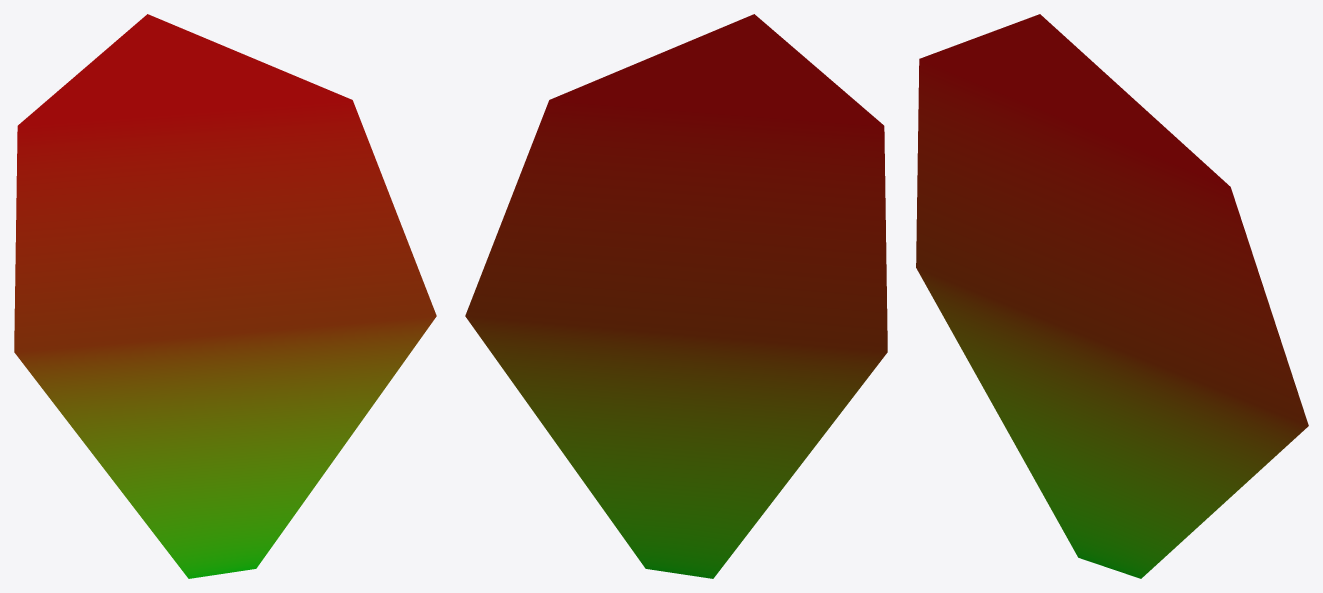
File: Leafy Nineawn_LOD3_Var3_tlijciuia.fbx
3 renders of one model, left to right at view 1: azimuth 30°, elevation 25°; view 2: azimuth 150°, elevation 25°; view 3: azimuth 330°, elevation 25°, orthographic. The views are drawn at different scales.
Visible parts, largest first — view 1: _ba3d_Var3_LOD3; view 2: _ba3d_Var3_LOD3; view 3: _ba3d_Var3_LOD3.
Part boxes in pixels (<box>): _ba3d_Var3_LOD3: <box>14,14,436,578</box>; _ba3d_Var3_LOD3: <box>465,14,887,578</box>; _ba3d_Var3_LOD3: <box>916,14,1308,578</box>.
Size of the model in its own units: 11.07 by 14.56 by 3.16e-06.
